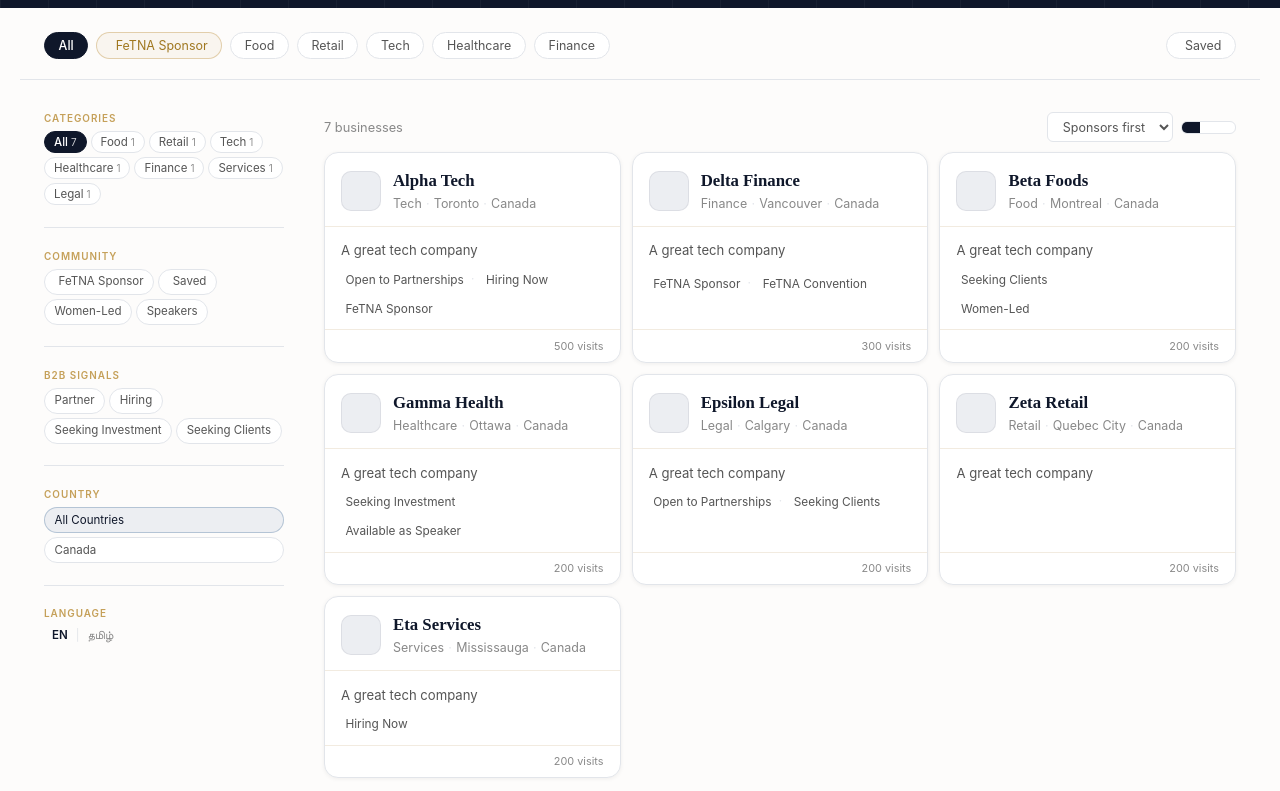
Test: DirectoryClient — B2B signals filter › filters to businesses matching a single signal
(page scrolled)
Click the button "Hiring". click: (136, 401)
box: [109,388,163,414]
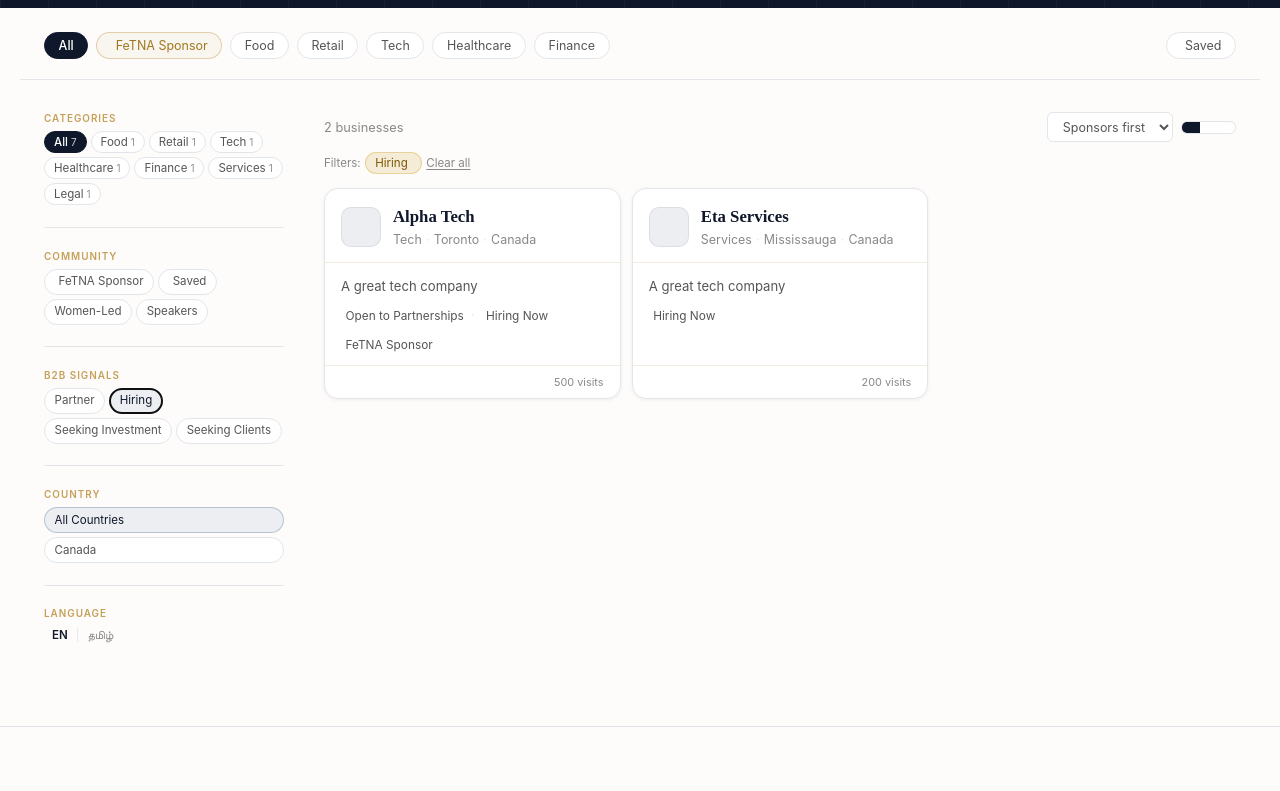
expect the text "2 businesses" is shown: met, box [324,120,403,135]
